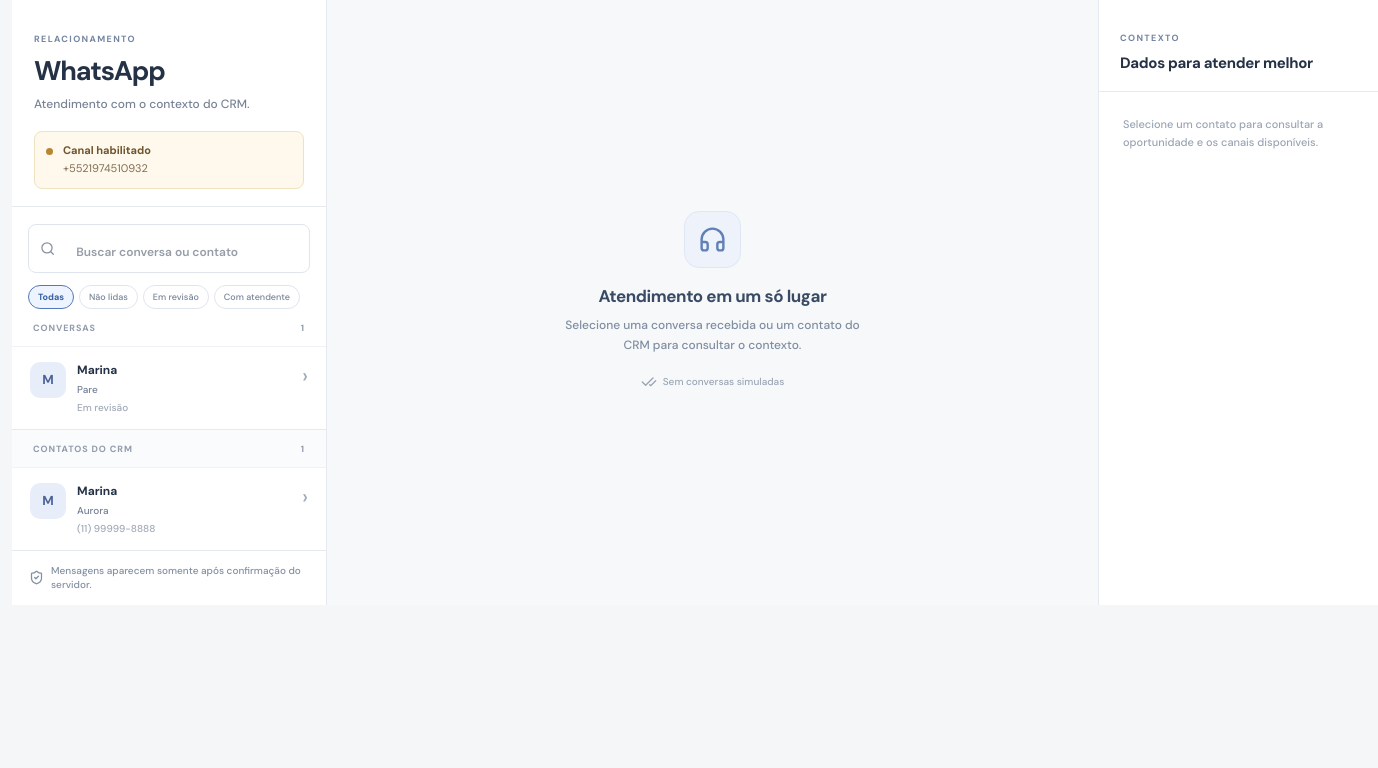
Test: WhatsAppWorkspace › impede envio para contato que pediu opt-out, mesmo com canal habilitado
This screenshot has width=1378, height=768.
Click the button with aria-label "Abrir conversa de Marina" at (48, 380), box [12,346,326,429]
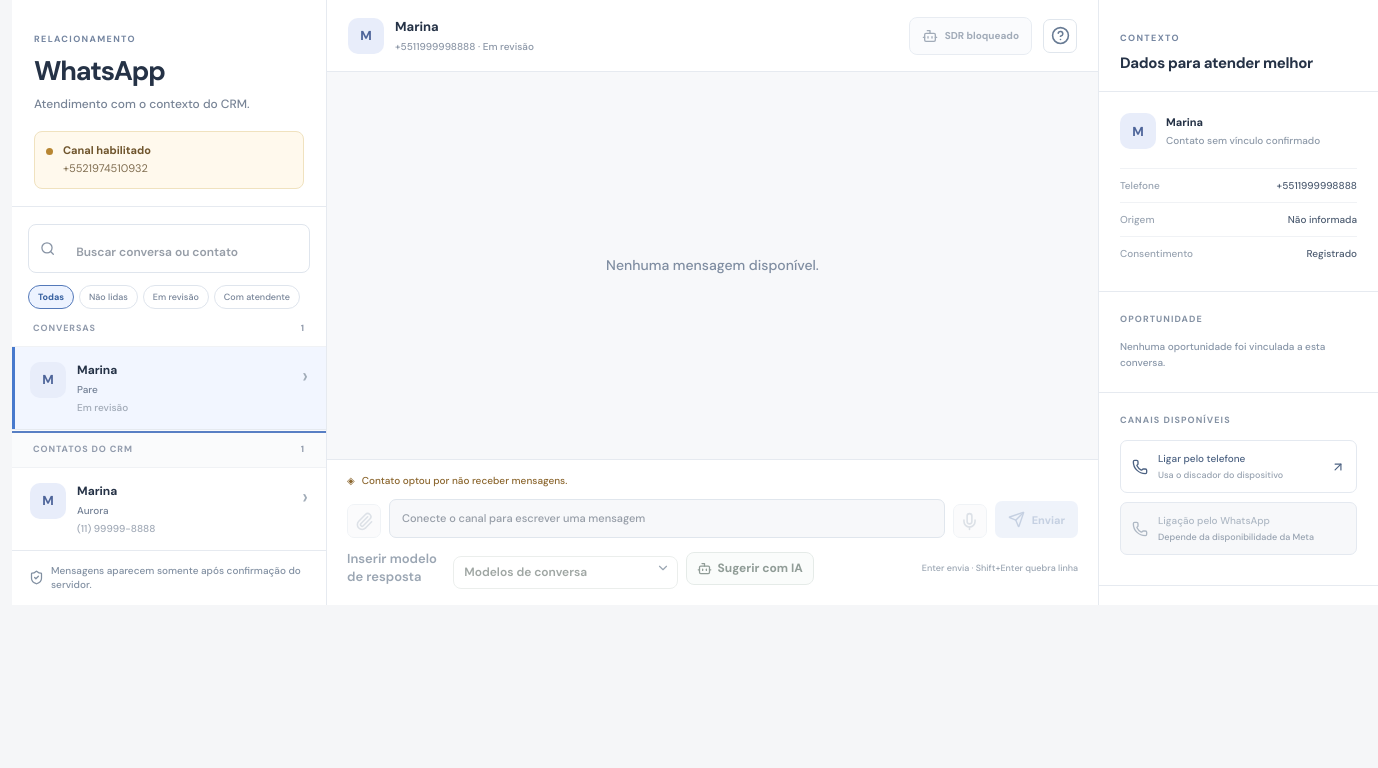
Check: the button "Enviar" is disabled, box [995,501,1078,538]
